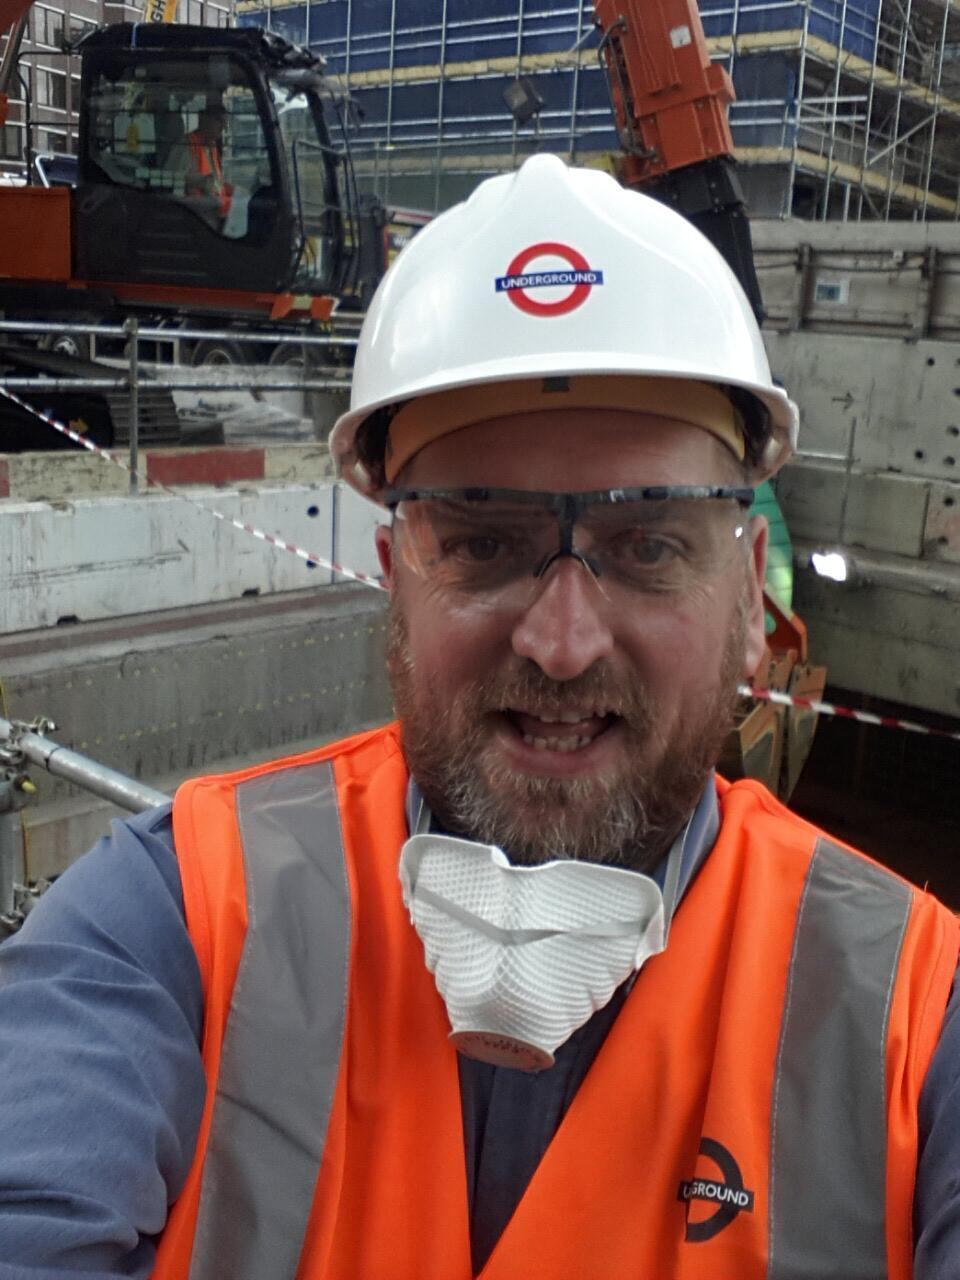helmet: (327, 150, 803, 480)
